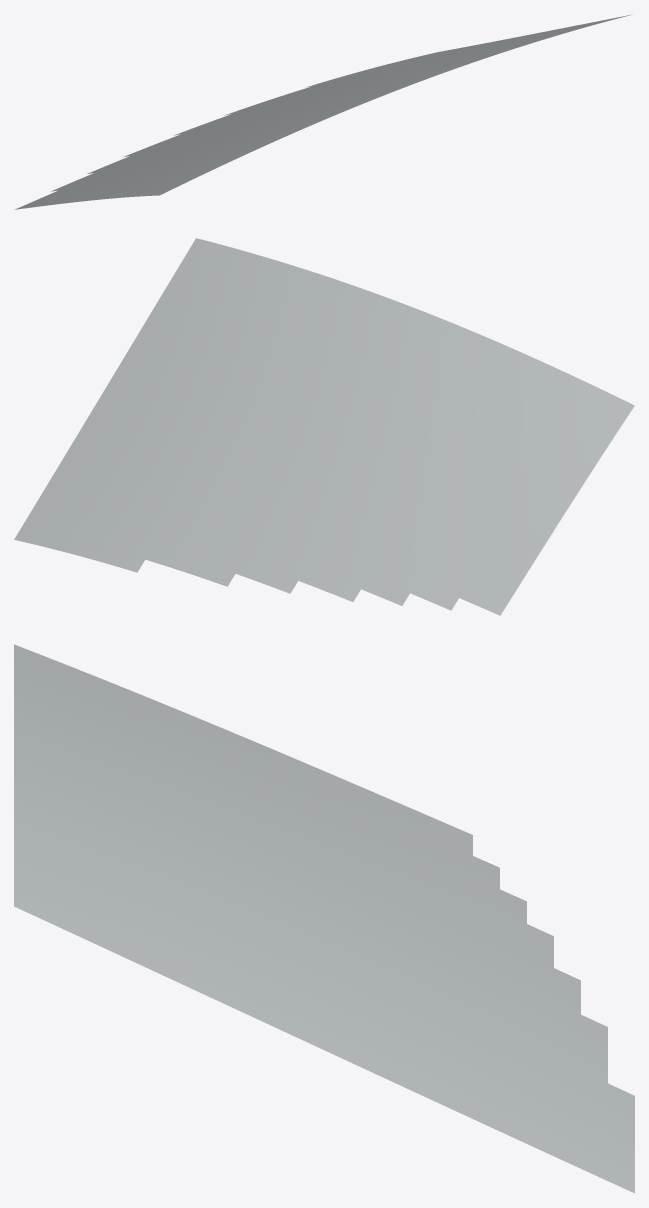
File: alpine-13-7.glb
The picture shows the model from 3 angles, top to bottom: view 1: azimuth 30°, elevation 25°; view 2: azimuth 150°, elevation 25°; view 3: azimuth 270°, elevation 25°; orthographic projection. The views are drawn at different scales.
Visible parts, largest first — view 1: alpine-13-7; view 2: alpine-13-7; view 3: alpine-13-7.
Part boxes in pixels (x1,y1,x2,y2): alpine-13-7: [15, 14, 631, 209]; alpine-13-7: [14, 238, 634, 615]; alpine-13-7: [14, 644, 634, 1193].
Size of the model in its own units: 256 by 96.01 by 184.
Materials: 1 (1 with a texture image).
